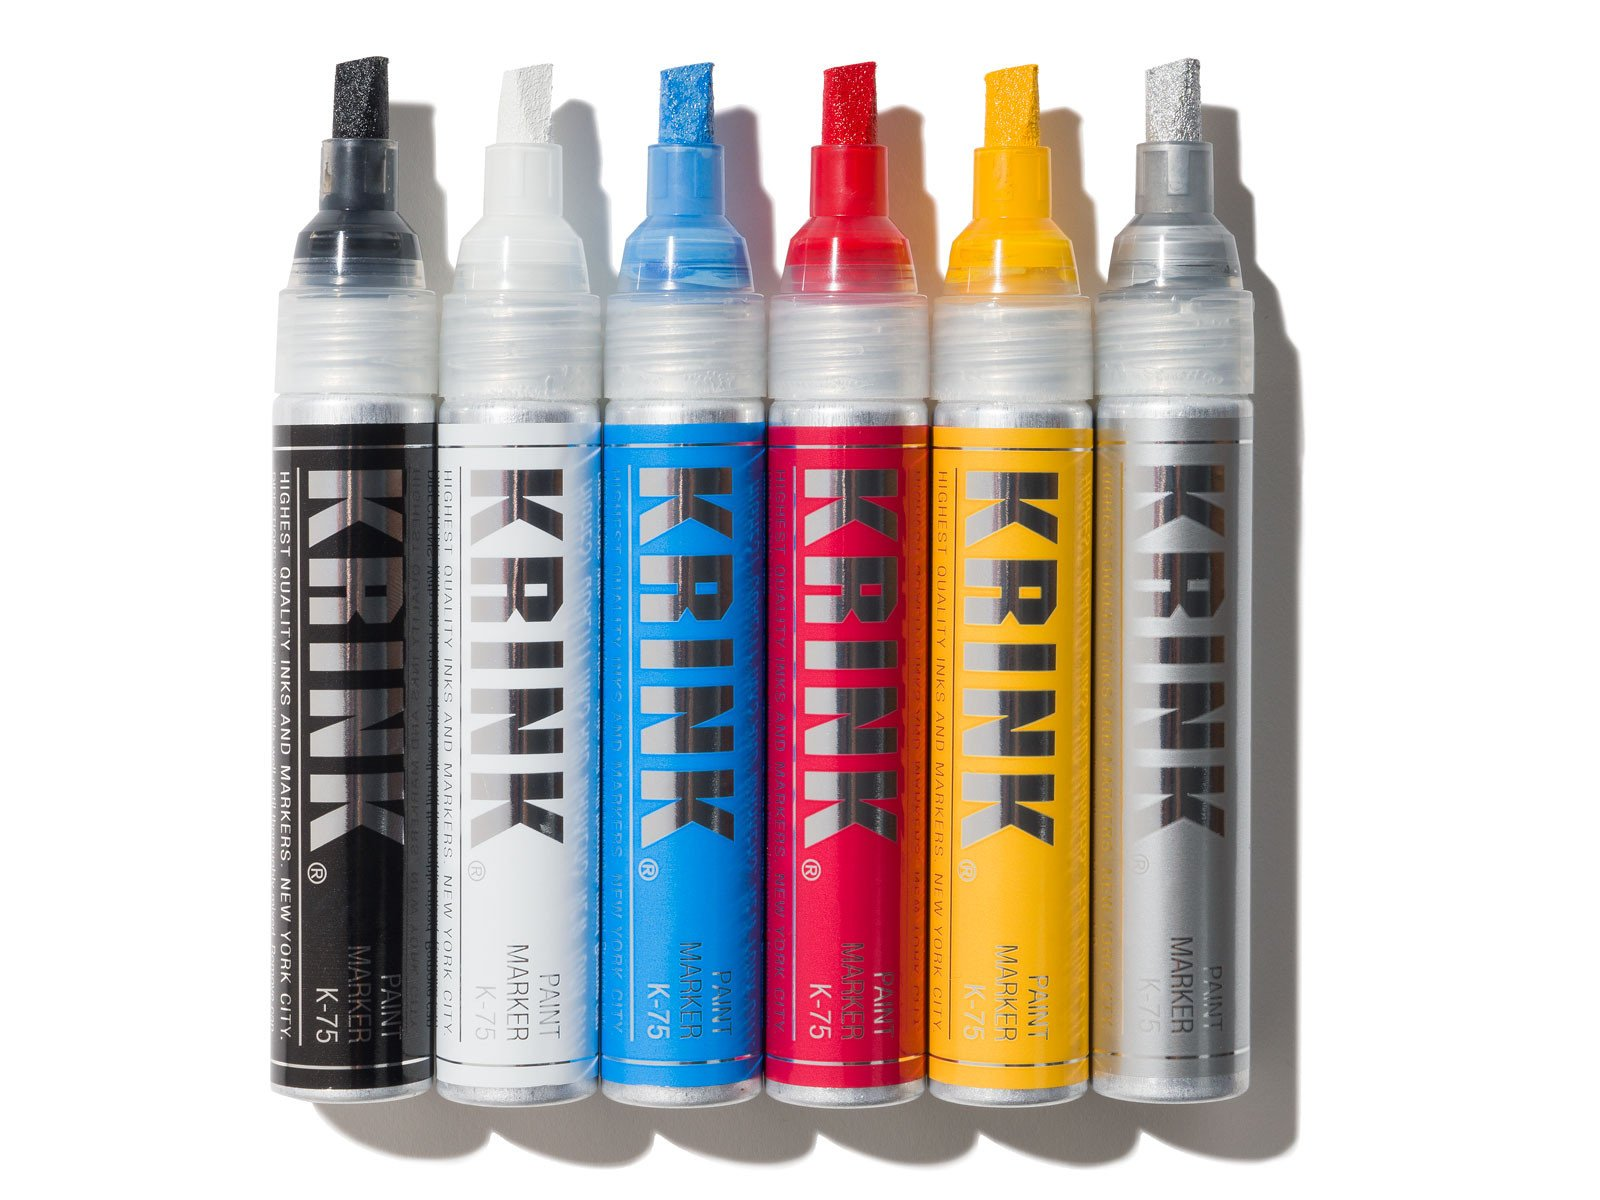Nonrec_Other: (266, 29, 1266, 1171), (266, 34, 436, 1129), (443, 32, 605, 1116), (617, 35, 771, 1114), (790, 45, 944, 1124), (1107, 47, 1259, 1116), (957, 62, 1107, 1122)
